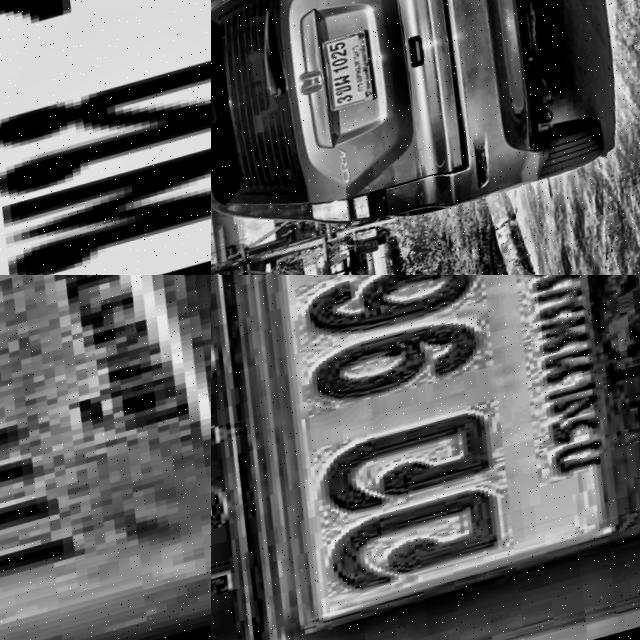license-plate: (211, 275, 640, 640), (0, 275, 211, 640), (0, 0, 211, 275), (318, 28, 394, 121)
